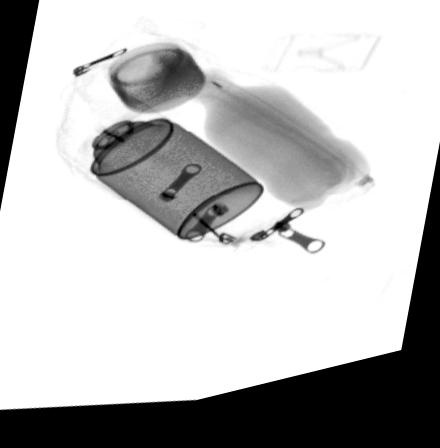Sprayer: (52, 99, 264, 251)
